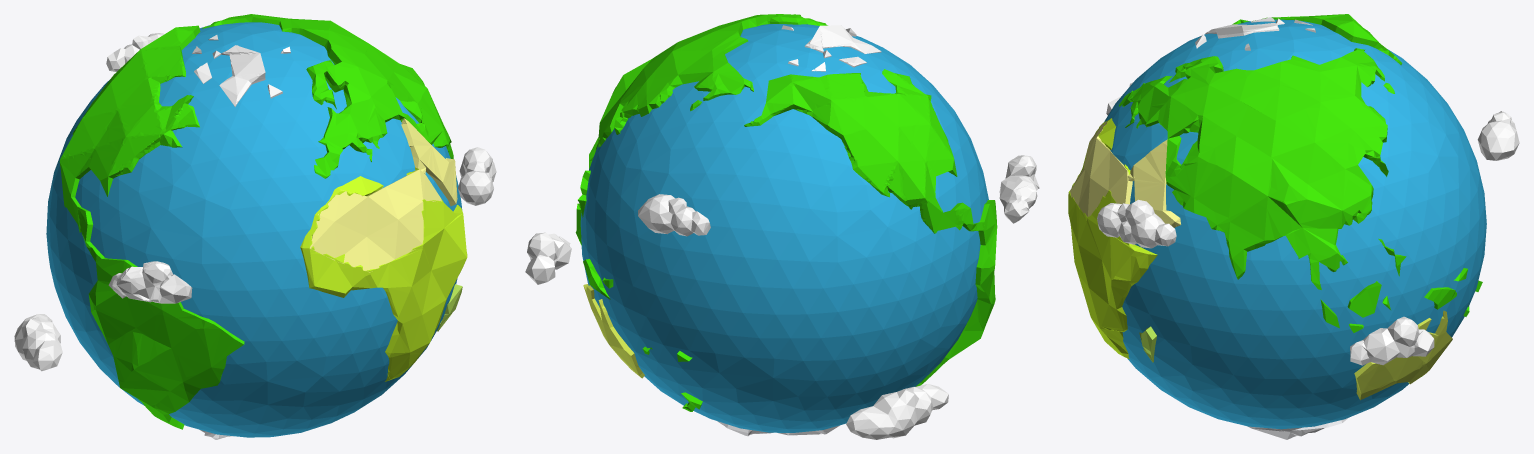
3 views of the same model, side by side, from view 1: azimuth 30°, elevation 25°; view 2: azimuth 150°, elevation 25°; view 3: azimuth 270°, elevation 25° (orthographic).
Visible parts, largest first — view 1: object 12, usa.001_10, usa_9, russia_8, africa_0, africa.001_1, cloud1_13, grend_4, cloud1.004_17, oae_7, cloud1.003_16, cloud1.002_15; view 2: object 12, usa.001_10, russia_8, cloud1.004_17, usa_9, cloud1.002_15, cloud1_13, cloud1.001_14, grend_4, indos_5, aust_3; view 3: object 12, russia_8, africa_0, africa.001_1, aust_3, cloud1.003_16, cloud1.001_14, oae_7, indos_5, cloud1.002_15, usa.001_10, grend_4 (+1 smaller).
Part boxes in pixels (x1,y1,x2,y2): object 12: (46,22,462,437); usa.001_10: (59,25,200,262); usa_9: (88,256,244,429); russia_8: (202,14,453,178); africa_0: (300,167,467,381); africa.001_1: (309,169,441,272); cloud1_13: (108,261,192,303); grend_4: (192,35,290,106); cloud1.004_17: (14,314,62,371); oae_7: (401,118,457,206); cloud1.003_16: (458,147,496,205); cloud1.002_15: (106,33,164,71); object 12: (580,24,988,432); usa.001_10: (744,69,984,234); russia_8: (589,14,827,169); cloud1.004_17: (846,384,948,439); usa_9: (915,200,997,386); cloud1.002_15: (638,194,710,236); cloud1_13: (999,155,1039,223); cloud1.001_14: (525,232,571,284); grend_4: (781,25,881,71); indos_5: (575,170,702,411); aust_3: (583,284,644,378); object 12: (1104,19,1486,429); russia_8: (1119,48,1394,289); africa_0: (1068,118,1157,359); africa.001_1: (1070,121,1132,219); aust_3: (1354,310,1452,400); cloud1.003_16: (1097,199,1176,248); cloud1.001_14: (1350,316,1434,365); oae_7: (1128,139,1180,227); indos_5: (1320,238,1482,332); cloud1.002_15: (1477,111,1519,160); usa.001_10: (1232,14,1402,64); grend_4: (1195,17,1315,50).
Bounding box in the file's own units: 18.8 × 17.96 × 18.66.
